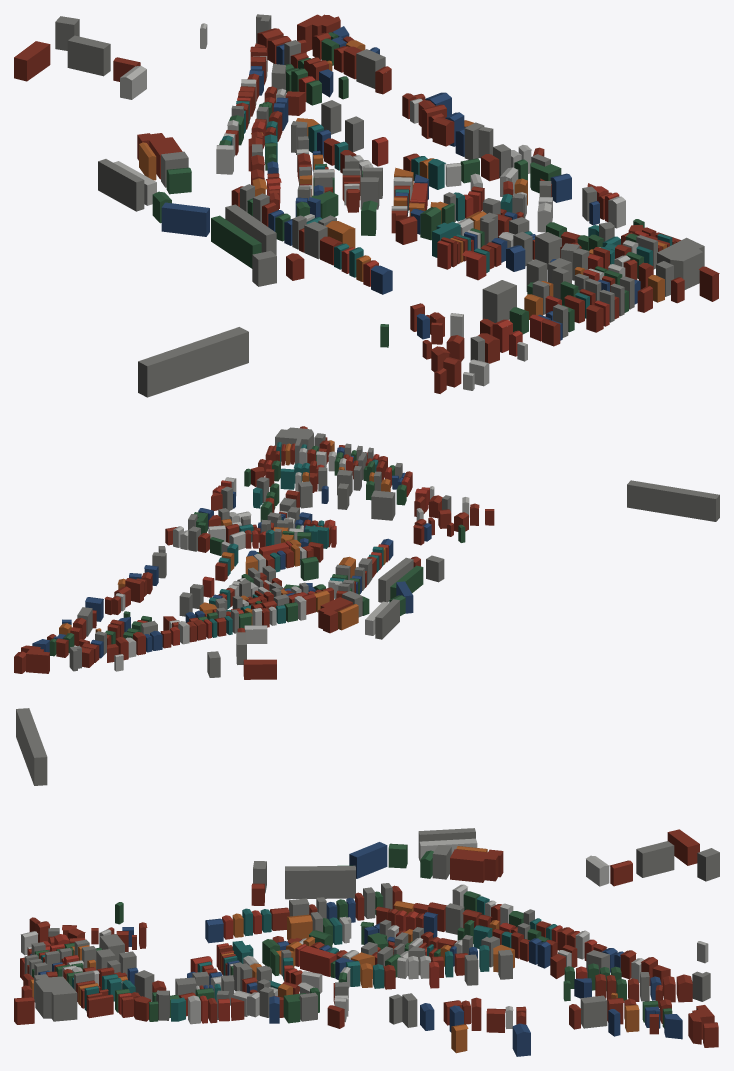
File: near-16-54727-29746.399649ea.glb
3 renders of one model, top to bottom at view 1: azimuth 30°, elevation 25°; view 2: azimuth 150°, elevation 25°; view 3: azimuth 270°, elevation 25°, orthographic. The views are drawn at different scales.
Bounding box in the file's own units: 508 × 88.7 × 591.
